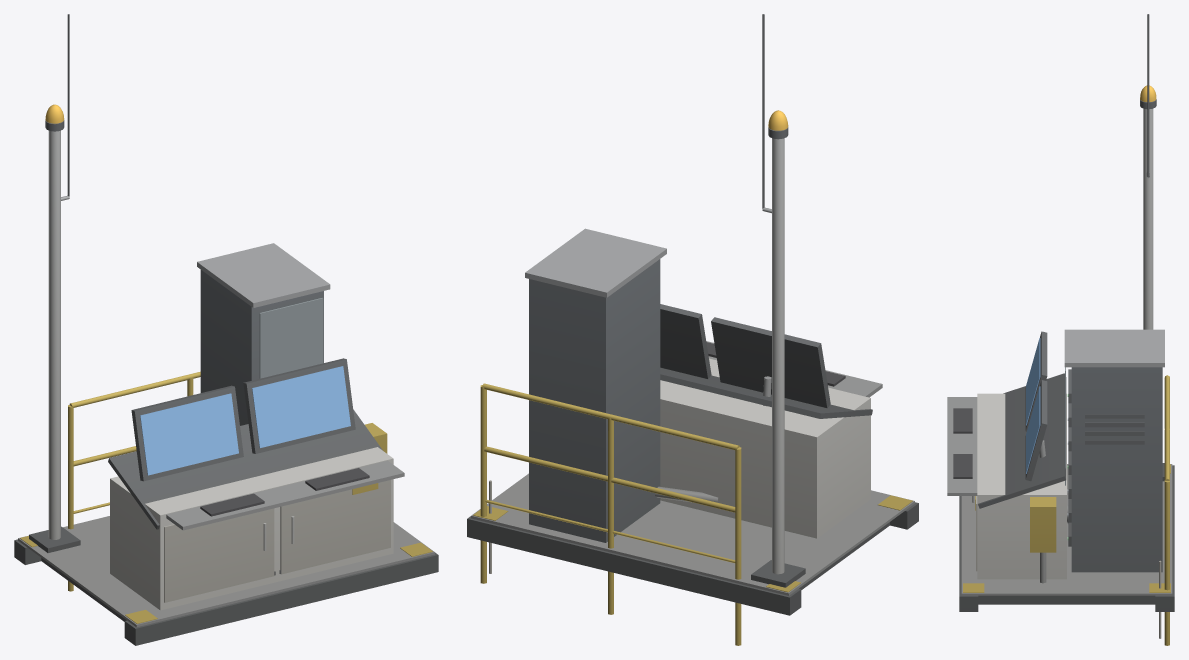
The model's file is base_hub.glb.
3 renders of one model, left to right at view 1: azimuth 30°, elevation 25°; view 2: azimuth 150°, elevation 25°; view 3: azimuth 270°, elevation 25°, orthographic. The views are drawn at different scales.
Visible parts, largest first — view 1: base_hub; view 2: base_hub; view 3: base_hub.
Boxes of the visible parts, x1,y1,x2,y2 form: base_hub: [14, 14, 438, 645]; base_hub: [467, 14, 918, 645]; base_hub: [947, 14, 1174, 645].
Size of the model in its own units: 2.6 by 4.81 by 1.9.
